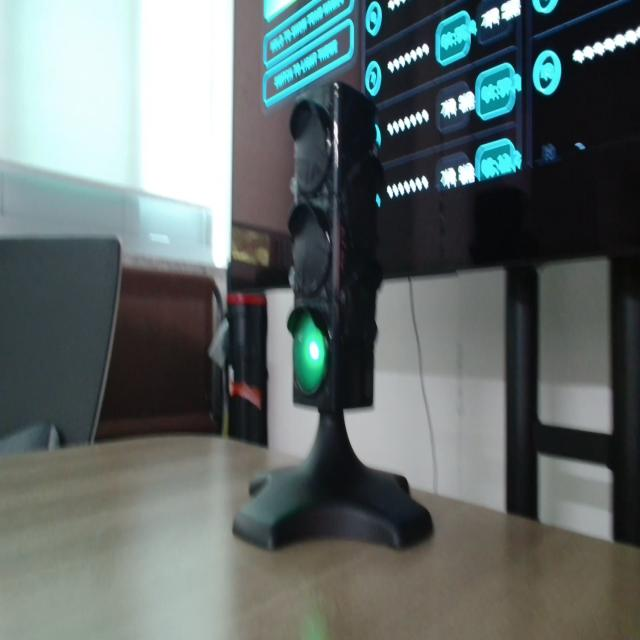green_light: (294, 313, 326, 395)
